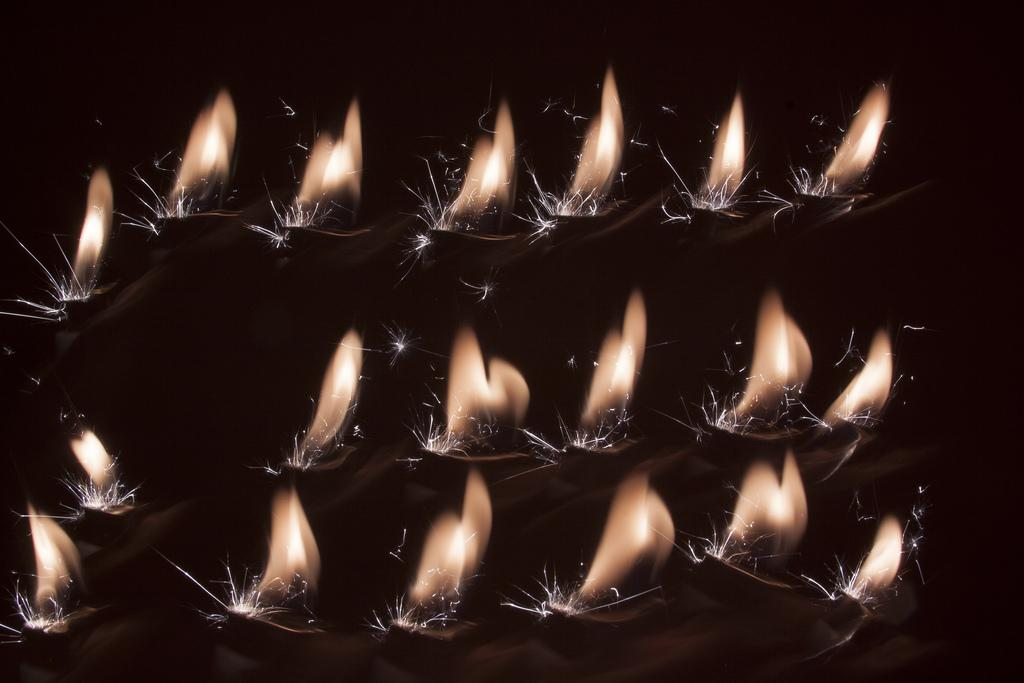fire: (442, 362, 527, 447), (602, 497, 668, 585), (263, 493, 315, 603), (22, 498, 70, 612), (420, 512, 478, 605), (62, 183, 105, 300), (743, 470, 800, 558), (185, 97, 235, 193), (457, 143, 525, 208), (702, 112, 750, 195), (300, 143, 357, 212), (757, 320, 807, 398), (325, 347, 370, 433), (595, 345, 642, 422), (845, 355, 890, 415), (587, 107, 618, 193), (845, 107, 888, 168), (72, 433, 110, 492), (865, 523, 897, 585)
